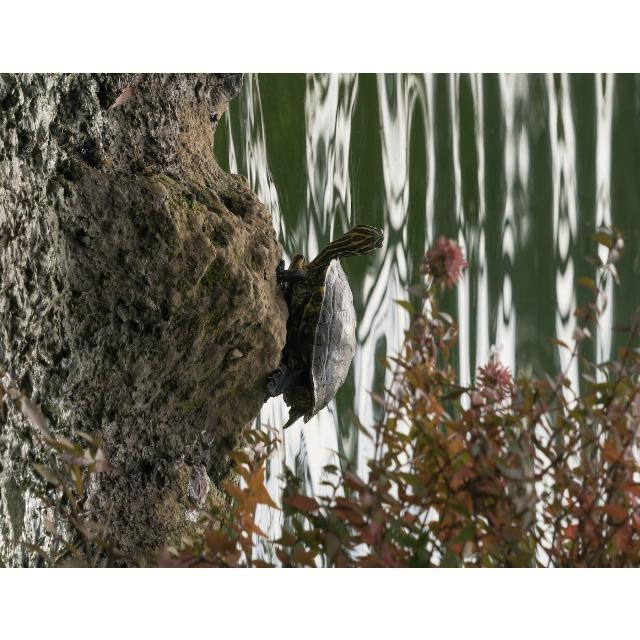turtle: (263, 224, 385, 430)
